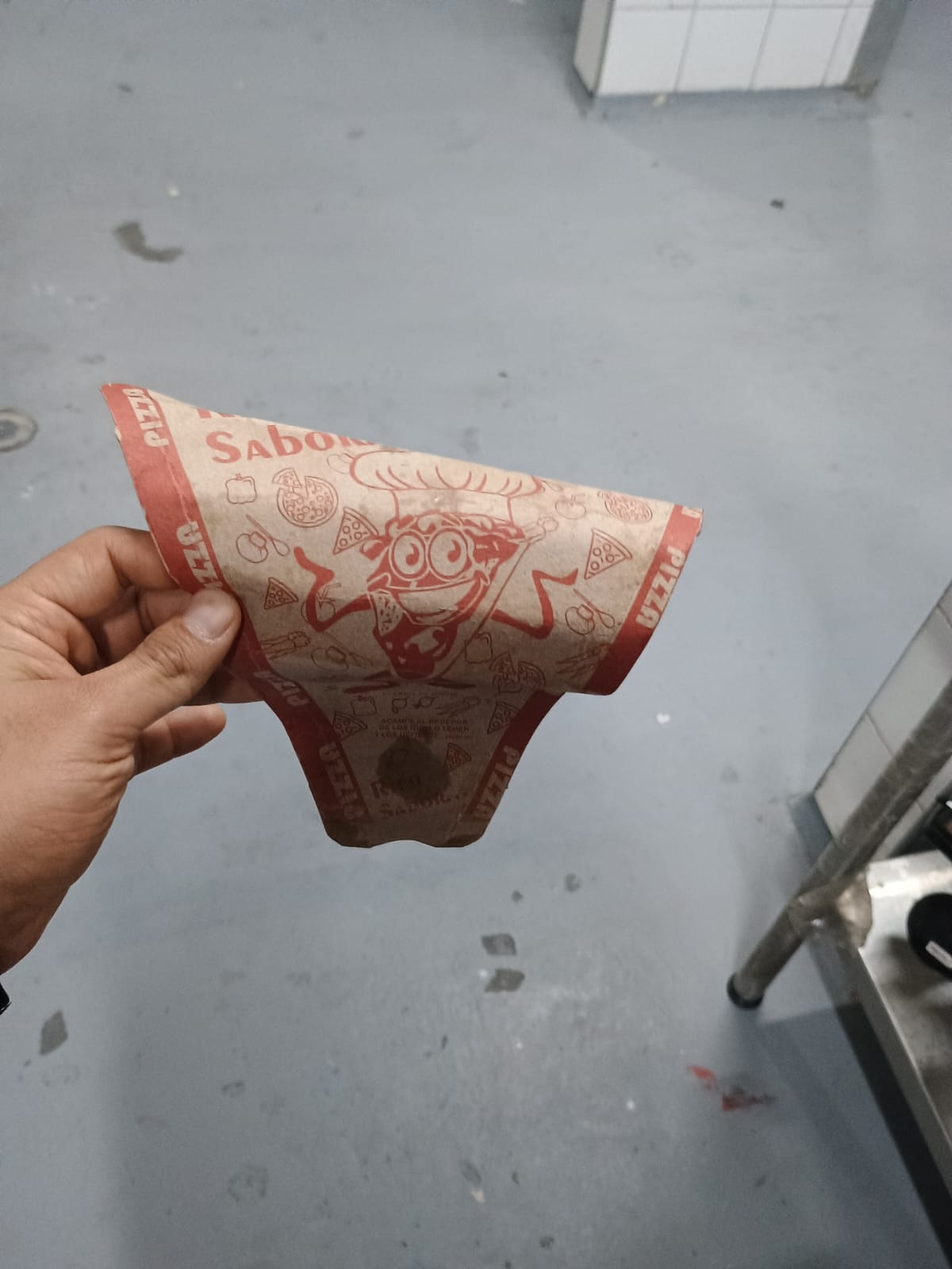Carton: (94, 381, 698, 848)
